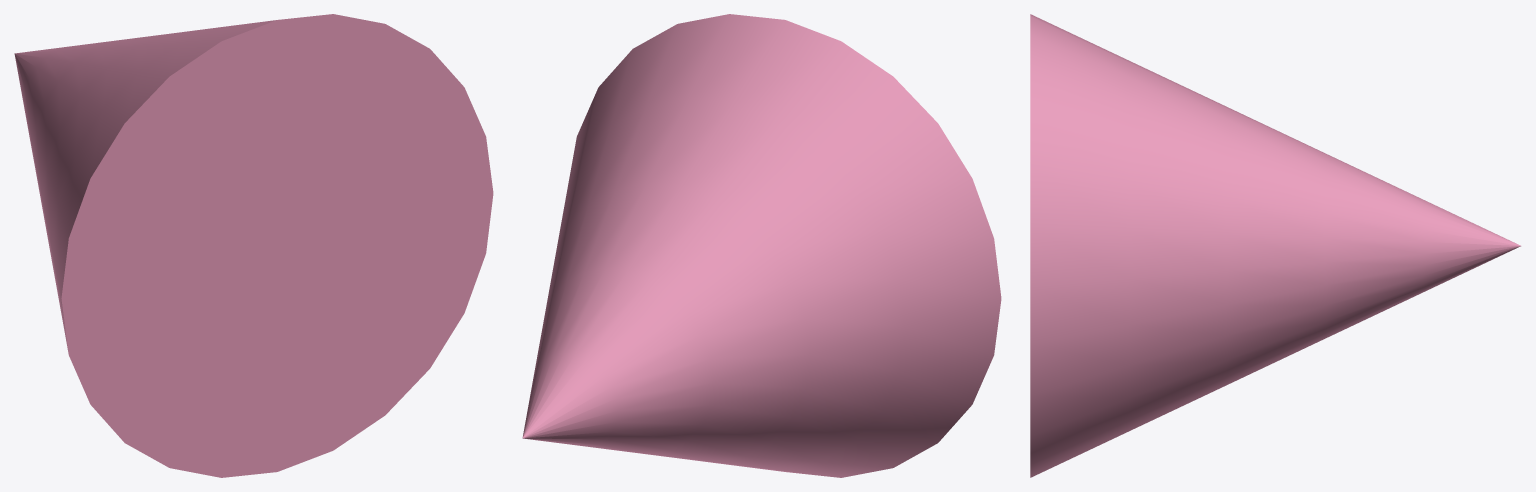
The model's file is player_front.obj.
The picture shows the model from 3 angles, left to right: view 1: azimuth 30°, elevation 25°; view 2: azimuth 150°, elevation 25°; view 3: azimuth 270°, elevation 25°; orthographic projection. The views are drawn at different scales.
Parts seen in each view (by area): view 1: Cone001; view 2: Cone001; view 3: Cone001.
Boxes of the visible parts, x1=… form: Cone001: x1=14, y1=14, x2=493, y2=477; Cone001: x1=522, y1=14, x2=1001, y2=477; Cone001: x1=1030, y1=14, x2=1520, y2=477.
Size of the model in its own units: 0.6862 by 0.6862 by 0.7235.
